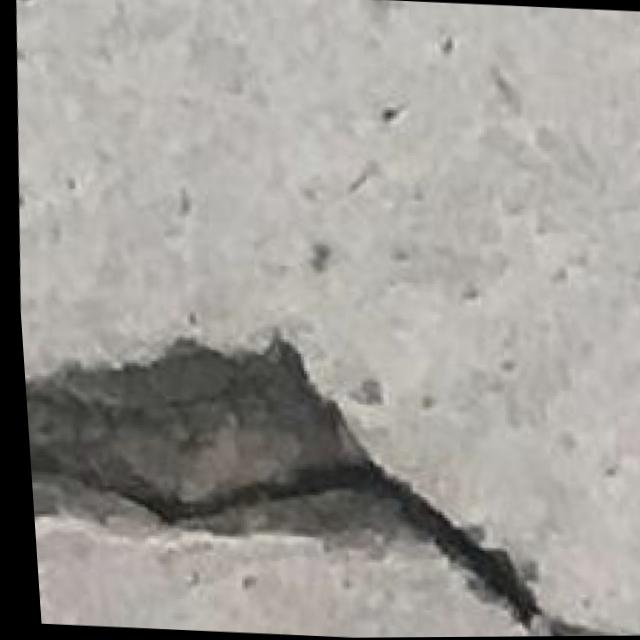Crack: (16, 295, 640, 640)
